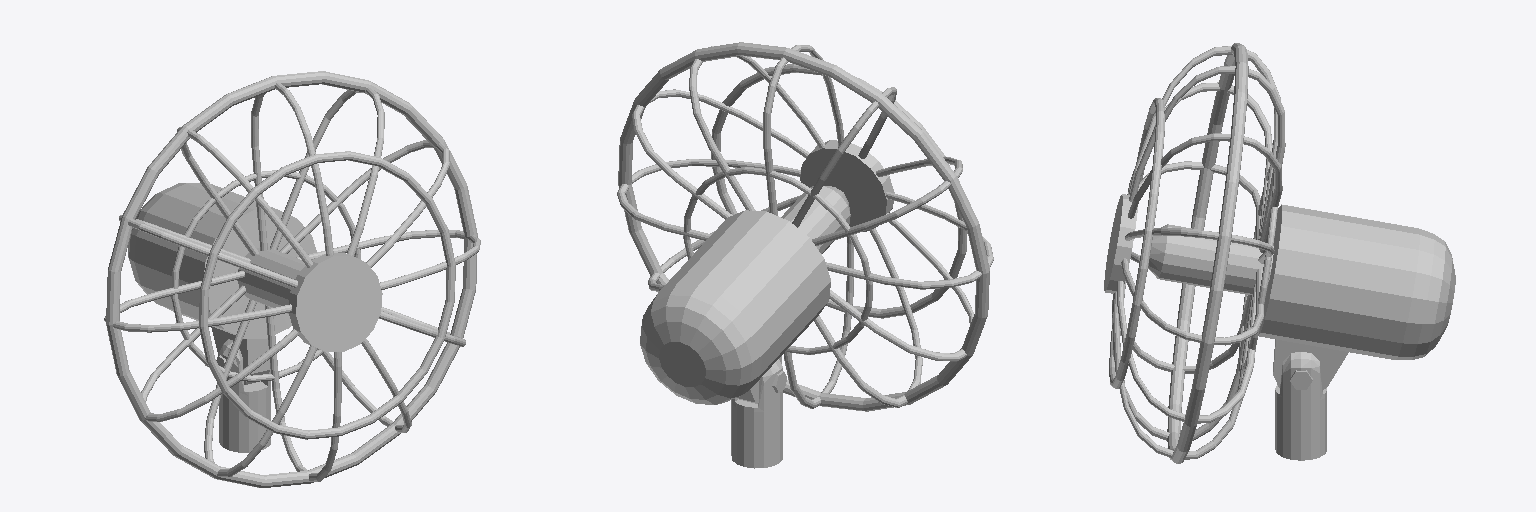
The model's file is head.obj.
The picture shows the model from 3 angles: view 1: azimuth 30°, elevation 25°; view 2: azimuth 150°, elevation 25°; view 3: azimuth 270°, elevation 25°; orthographic projection.
Visible parts, largest first — view 1: head_立方体.001; view 2: head_立方体.001; view 3: head_立方体.001.
Part boxes in pixels (x1,y1,x2,y2): head_立方体.001: (104,71,480,487); head_立方体.001: (617,42,993,468); head_立方体.001: (1104,43,1455,463).
Size of the model in its own units: 7.53 by 7.53 by 6.2.